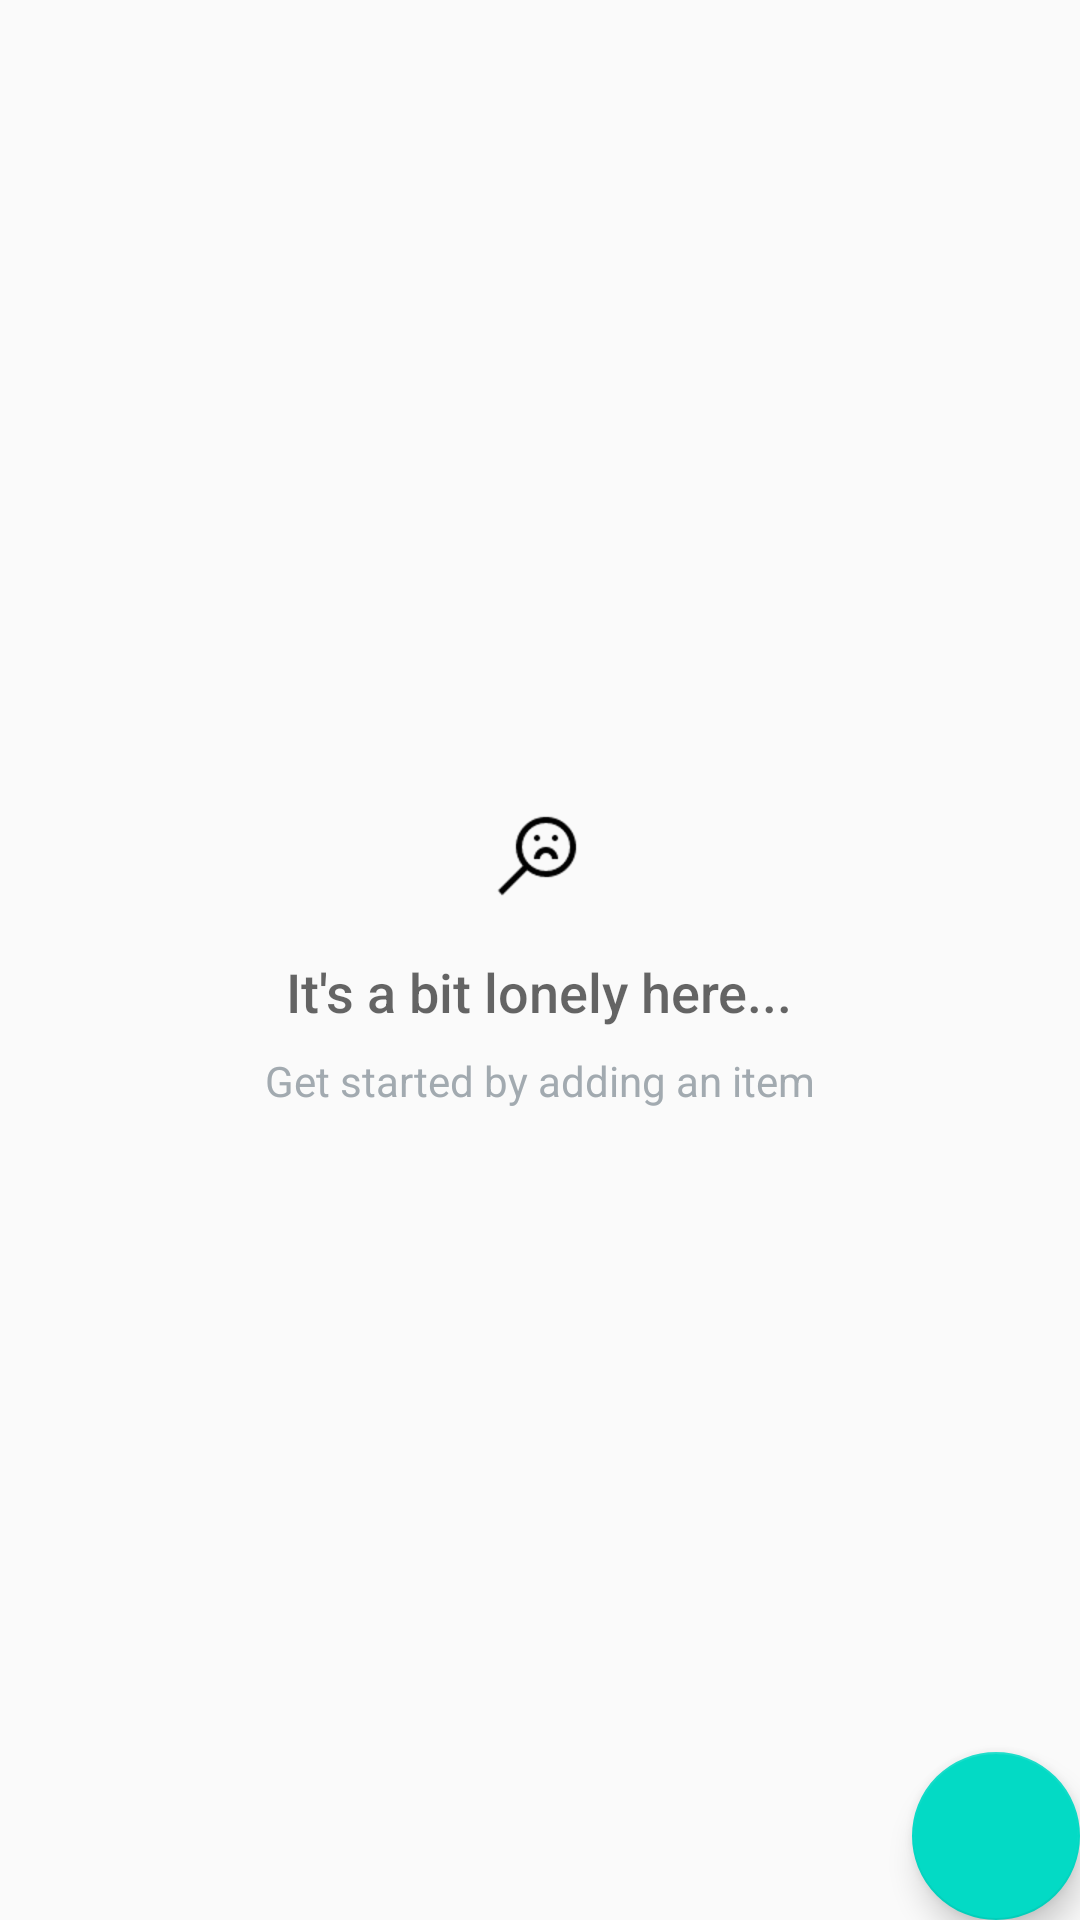

Icon click points for this 1080*1920 phone screenshot, format point (x, y):
nothing: point (537, 855)
